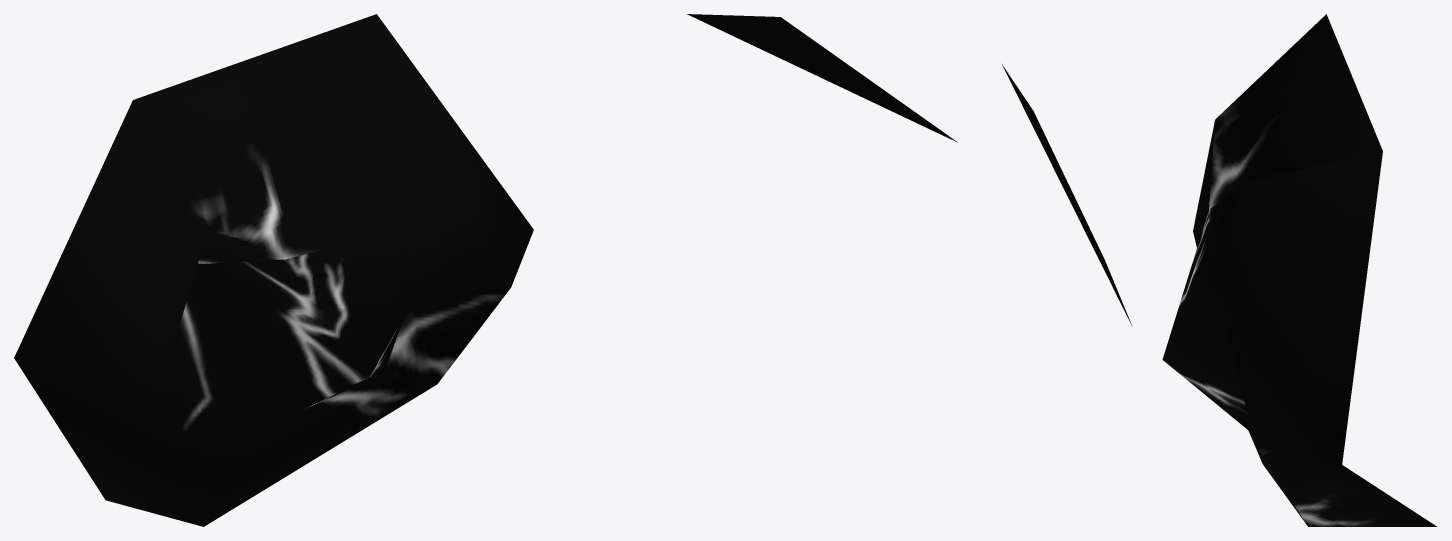
3 renders of one model, left to right at view 1: azimuth 30°, elevation 25°; view 2: azimuth 150°, elevation 25°; view 3: azimuth 270°, elevation 25°, orthographic. The views are drawn at different scales.
Visible parts, largest first — view 1: model_Object158; view 2: model_Object158; view 3: model_Object158.
Part boxes in pixels (<box>): model_Object158: <box>14,14,533,526</box>; model_Object158: <box>687,14,1132,326</box>; model_Object158: <box>1162,14,1436,526</box>.
Size of the model in its own units: 3.16 by 2.39 by 1.37.
1 material, 1 textured.
